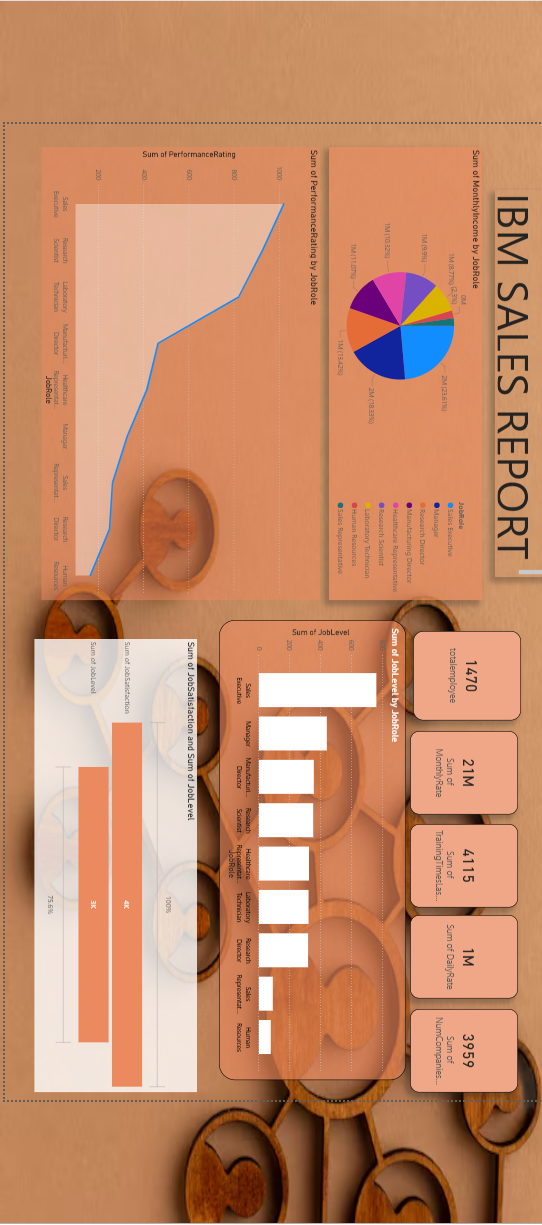

The dashboard page shown, as its layout file describes it:
{"tool":"powerbi","page":{"name":"Page 2","canvas":[1800,1000],"ordinal":1},"visuals":[{"type":"card","fields":{"Values":["IBM DataSet.totalemployee"]},"box":[935,48.8,164.6,199.2],"z":0},{"type":"card","fields":{"Values":["Sum(IBM DataSet.MonthlyRate)"]},"box":[1119.9,52.8,154.5,199.2],"z":1000},{"type":"columnChart","fields":{"Category":["IBM DataSet.JobRole"],"Y":["Sum(IBM DataSet.JobLevel)"]},"box":[914.5,260.9,849.1,345.5],"z":2000},{"type":"textbox","box":[122,0,714,96],"z":3000},{"type":"card","fields":{"Values":["Sum(IBM DataSet.NumCompaniesWorked)"]},"box":[1632.1,52.8,154.5,199.2],"z":4000},{"type":"card","fields":{"Values":["Sum(IBM DataSet.DailyRate)"]},"box":[1459.3,52.8,154.5,199.2],"z":5000},{"type":"card","fields":{"Values":["Sum(IBM DataSet.TrainingTimesLastYear)"]},"box":[1290.7,52.8,154.5,199.2],"z":6000},{"type":"pieChart","fields":{"Y":["Sum(IBM DataSet.MonthlyIncome)"],"Category":["IBM DataSet.JobRole"]},"box":[42,120,836,282],"z":7000},{"type":"areaChart","fields":{"Y":["Sum(IBM DataSet.PerformanceRating)"],"Category":["IBM DataSet.JobRole"]},"box":[42,418,836,514],"z":8000},{"type":"funnel","fields":{"Y":["Sum(IBM DataSet.JobSatisfaction)","Sum(IBM DataSet.JobLevel)"]},"box":[950,646,836,300],"z":9000}]}

Visuals, with their boxes on the page's 1800x1000 design canvas (x1, y1, x2, y2). These are canvas units, not pixel positions in the 542x1225 screenshot, which may show the page scaled, cropped or inside an application window:
card - IBM DataSet.totalemployee: bbox=(935, 49, 1100, 248)
card - Sum(IBM DataSet.MonthlyRate): bbox=(1120, 53, 1274, 252)
columnChart - IBM DataSet.JobRole x Sum(IBM DataSet.JobLevel): bbox=(914, 261, 1764, 606)
textbox: bbox=(122, 0, 836, 96)
card - Sum(IBM DataSet.NumCompaniesWorked): bbox=(1632, 53, 1787, 252)
card - Sum(IBM DataSet.DailyRate): bbox=(1459, 53, 1614, 252)
card - Sum(IBM DataSet.TrainingTimesLastYear): bbox=(1291, 53, 1445, 252)
pieChart - Sum(IBM DataSet.MonthlyIncome) x IBM DataSet.JobRole: bbox=(42, 120, 878, 402)
areaChart - Sum(IBM DataSet.PerformanceRating) x IBM DataSet.JobRole: bbox=(42, 418, 878, 932)
funnel - Sum(IBM DataSet.JobSatisfaction) x Sum(IBM DataSet.JobLevel): bbox=(950, 646, 1786, 946)
